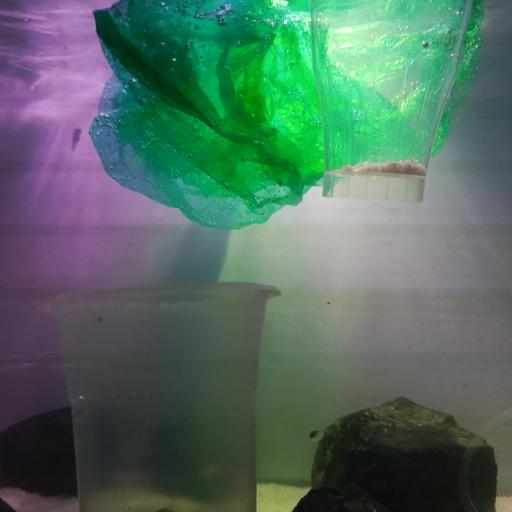plastic_bag: (88, 0, 484, 234)
plastic_cup: (31, 280, 283, 512), (312, 0, 474, 208), (459, 407, 512, 512)
